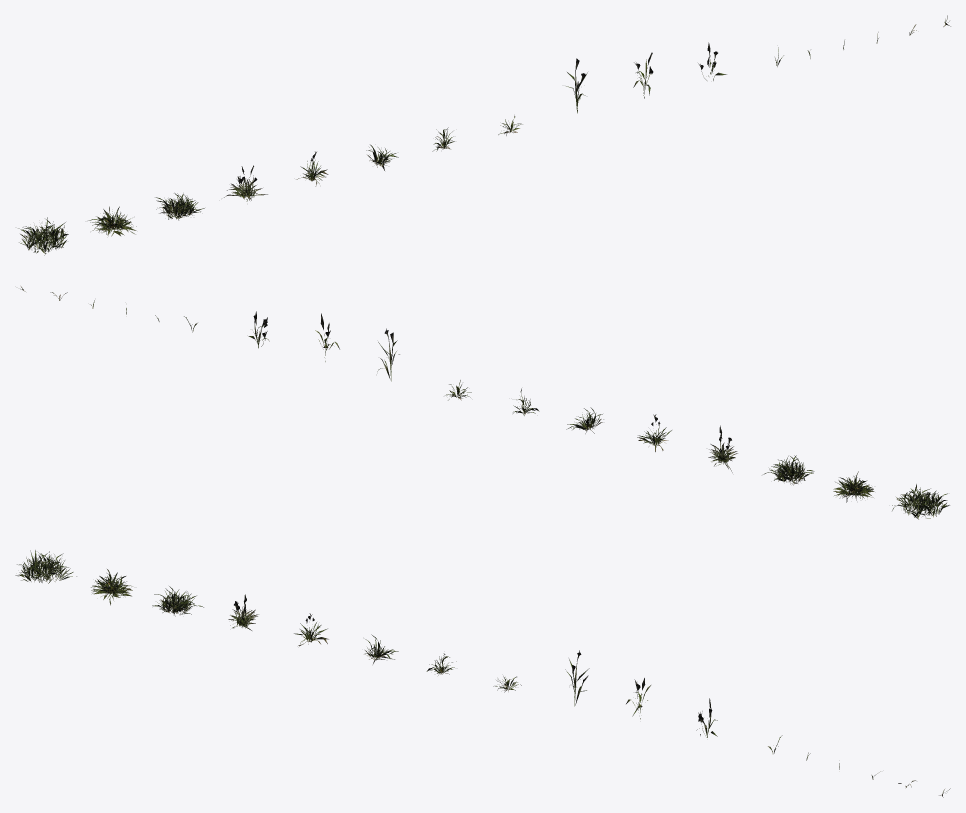
Rendered from grass_clump.glb.
The picture shows the model from 3 angles, top to bottom: view 1: azimuth 30°, elevation 25°; view 2: azimuth 150°, elevation 25°; view 3: azimuth 330°, elevation 25°; orthographic projection.
Parts seen in each view (by area): view 1: grass_medium_01_large_a_LOD0, grass_medium_01_large_c_LOD0, grass_medium_01_large_b_LOD0; view 2: grass_medium_01_large_a_LOD0, grass_medium_01_large_c_LOD0, grass_medium_01_large_b_LOD0; view 3: grass_medium_01_large_a_LOD0, grass_medium_01_large_c_LOD0, grass_medium_01_large_b_LOD0.
Boxes of the visible parts, left/top/right/bottom form: grass_medium_01_large_a_LOD0: left=18, top=217, right=68, bottom=255; grass_medium_01_large_c_LOD0: left=155, top=193, right=204, bottom=220; grass_medium_01_large_b_LOD0: left=88, top=206, right=136, bottom=236; grass_medium_01_large_a_LOD0: left=892, top=484, right=949, bottom=519; grass_medium_01_large_c_LOD0: left=763, top=455, right=814, bottom=485; grass_medium_01_large_b_LOD0: left=833, top=471, right=874, bottom=502; grass_medium_01_large_a_LOD0: left=15, top=550, right=76, bottom=583; grass_medium_01_large_c_LOD0: left=152, top=586, right=203, bottom=616; grass_medium_01_large_b_LOD0: left=91, top=569, right=132, bottom=605.
Size of the model in its own units: 5.6 by 0.3426 by 0.3264.
Materials: 1 (1 with a texture image).
